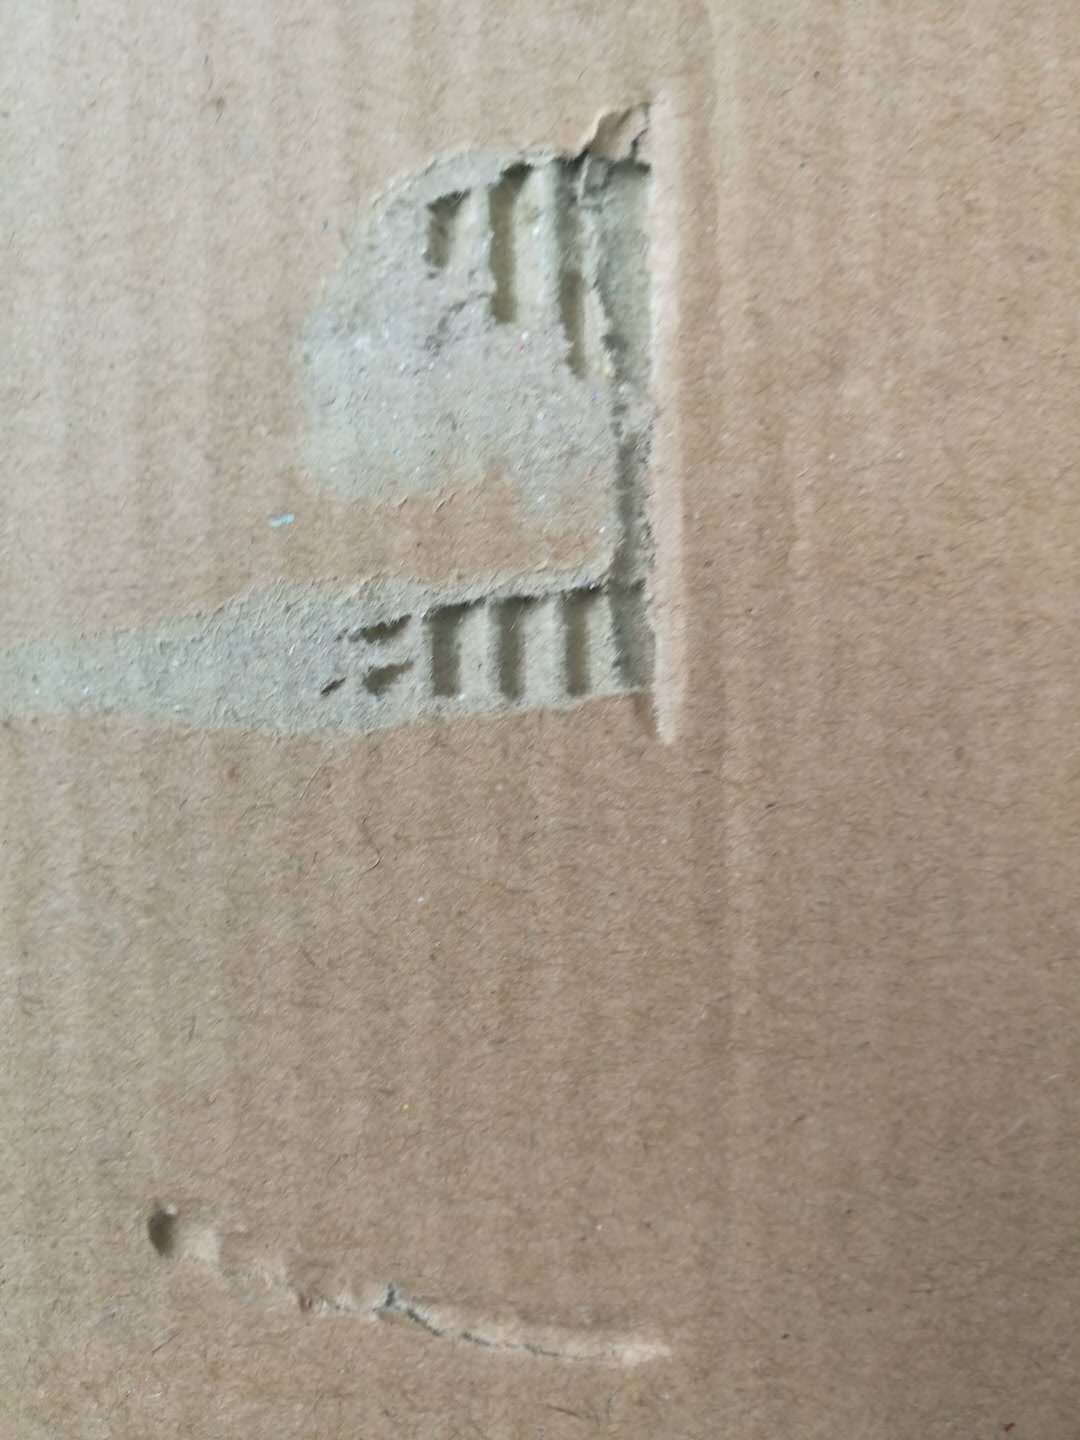defect: (3, 63, 775, 805), (117, 1164, 704, 1404)
